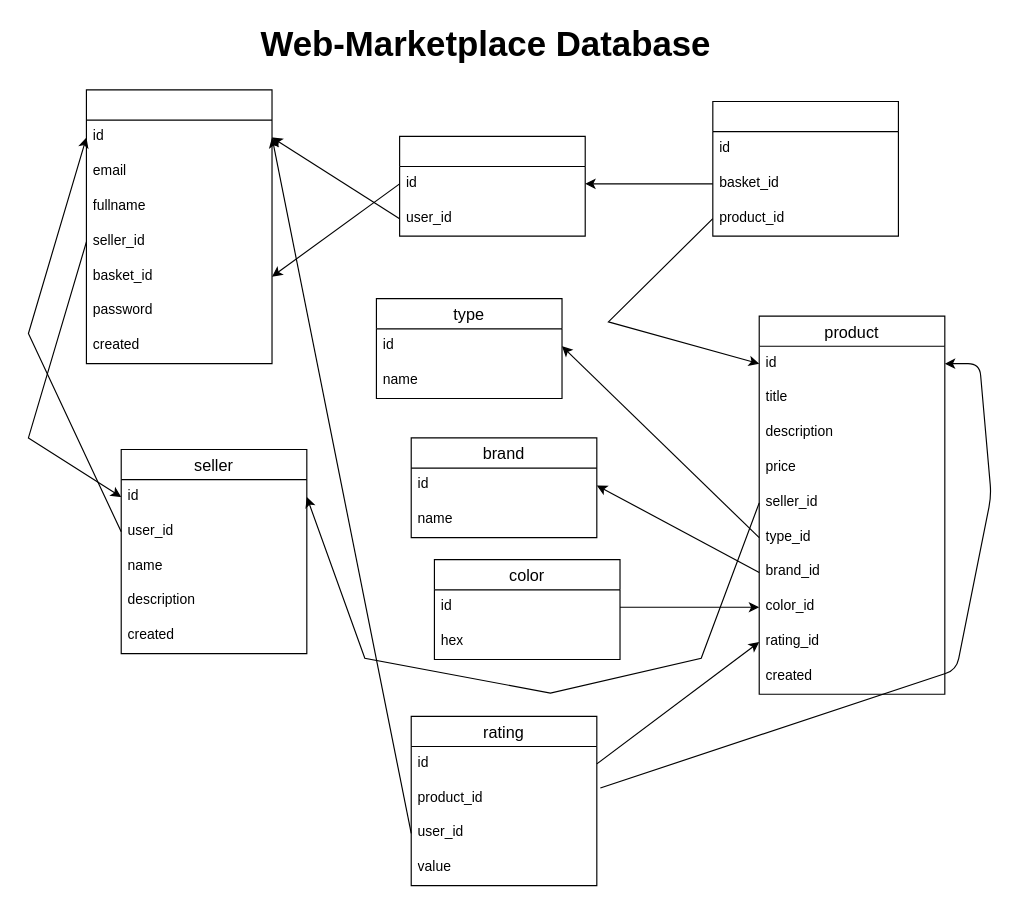
This 1021x908 diagram has some shape labels left out. The box of each missing label's shape, as (x1, y1, x2, y2) in pixels:
basket: (398, 135, 585, 236)
basket_product: (712, 100, 898, 236)
user: (85, 89, 272, 364)
